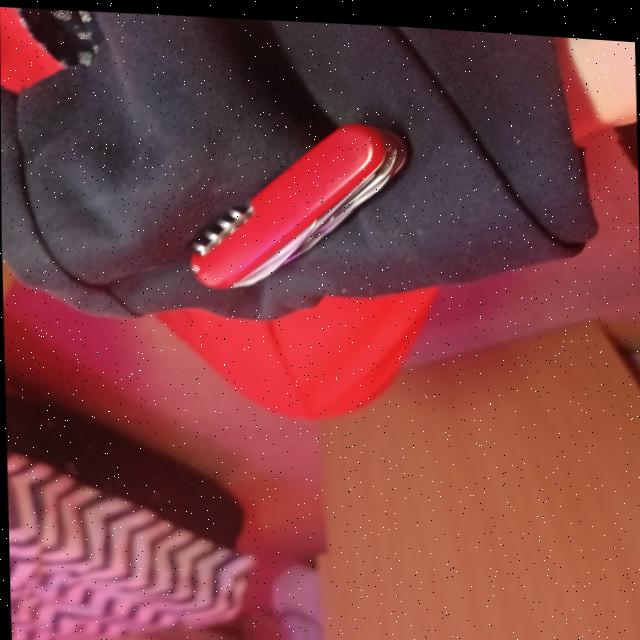knife victorinox: (189, 118, 405, 284)
